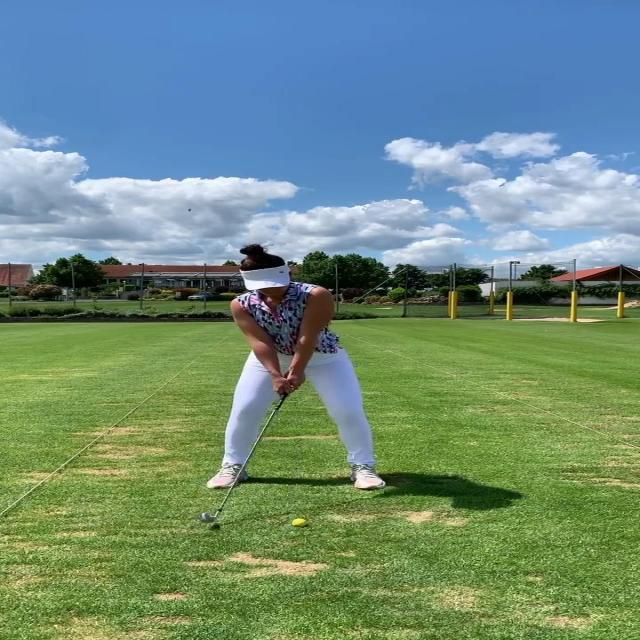ClubHandle: (199, 392, 288, 524)
ClubHead: (199, 513, 215, 523)
GolfBall: (293, 519, 307, 527)
